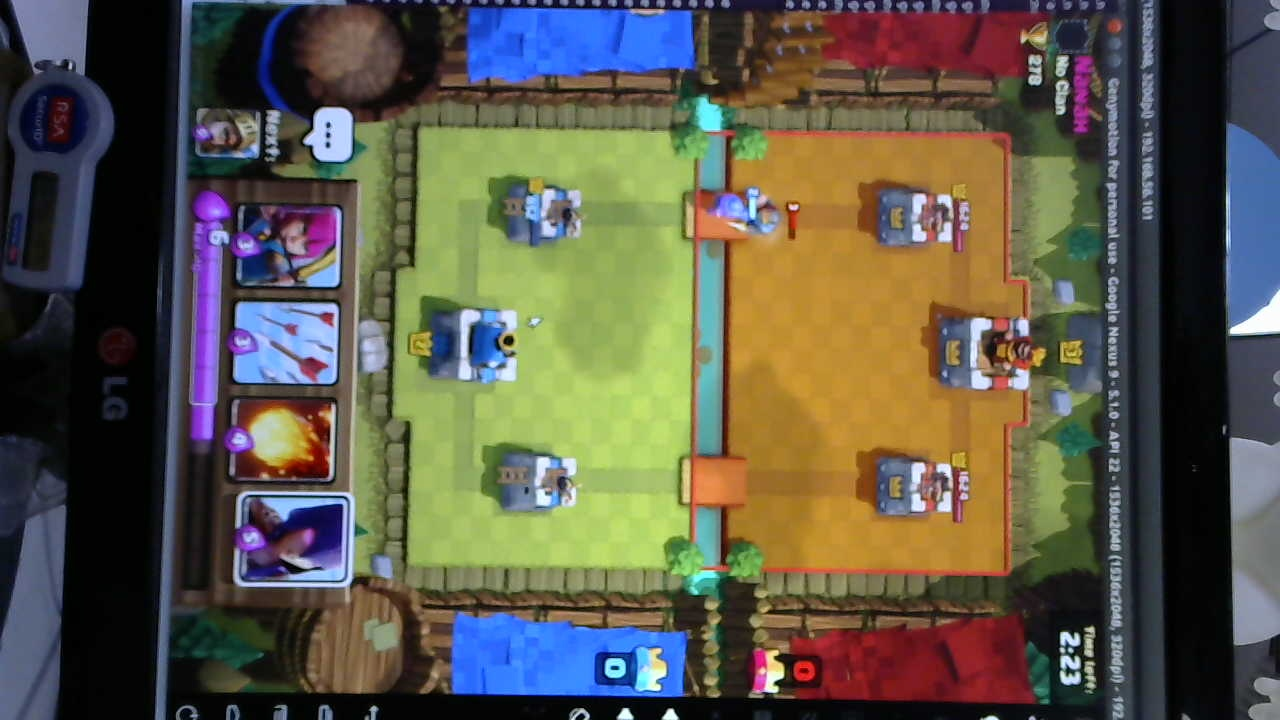arena: (494, 444, 580, 516), (501, 180, 582, 247)
earena: (870, 453, 955, 523), (875, 185, 955, 250)
eking: (937, 310, 1038, 393)
king: (428, 298, 525, 388)
knight: (740, 191, 783, 242)
prince: (701, 182, 764, 226)
